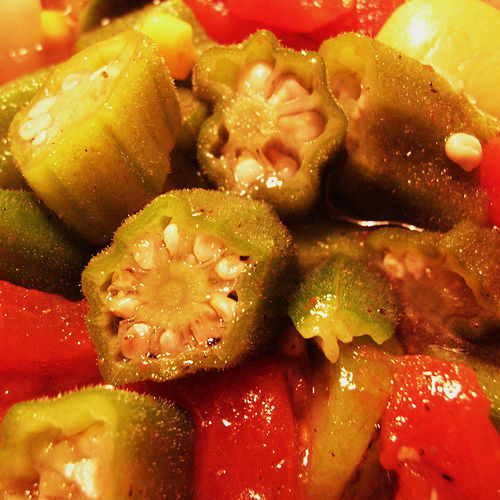okra: (75, 178, 295, 393), (5, 32, 186, 242), (316, 32, 498, 229), (191, 28, 347, 211), (2, 386, 196, 498)
